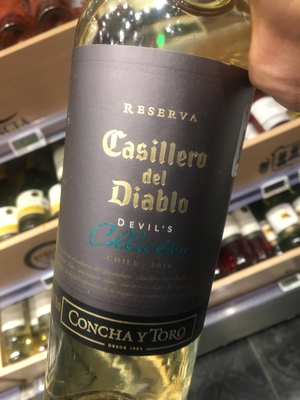casillero del diablo devils collection verde: (51, 18, 267, 400)
